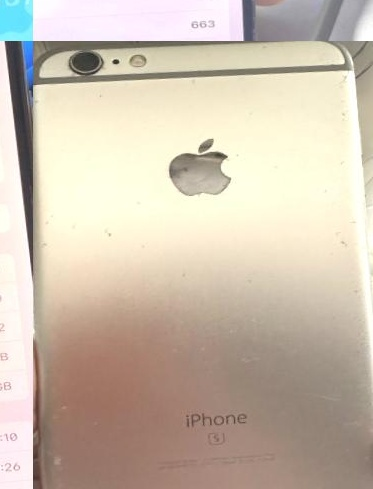scratch: (163, 124, 242, 213), (157, 261, 232, 341), (327, 207, 373, 301), (48, 41, 130, 88), (322, 138, 373, 203), (321, 61, 364, 135), (84, 210, 142, 259), (33, 101, 62, 186), (35, 390, 87, 436), (341, 295, 373, 365), (334, 434, 373, 489), (39, 437, 79, 489), (33, 202, 67, 263), (345, 363, 373, 434), (128, 184, 166, 218), (256, 41, 311, 59), (205, 427, 229, 448), (250, 10, 261, 41)
